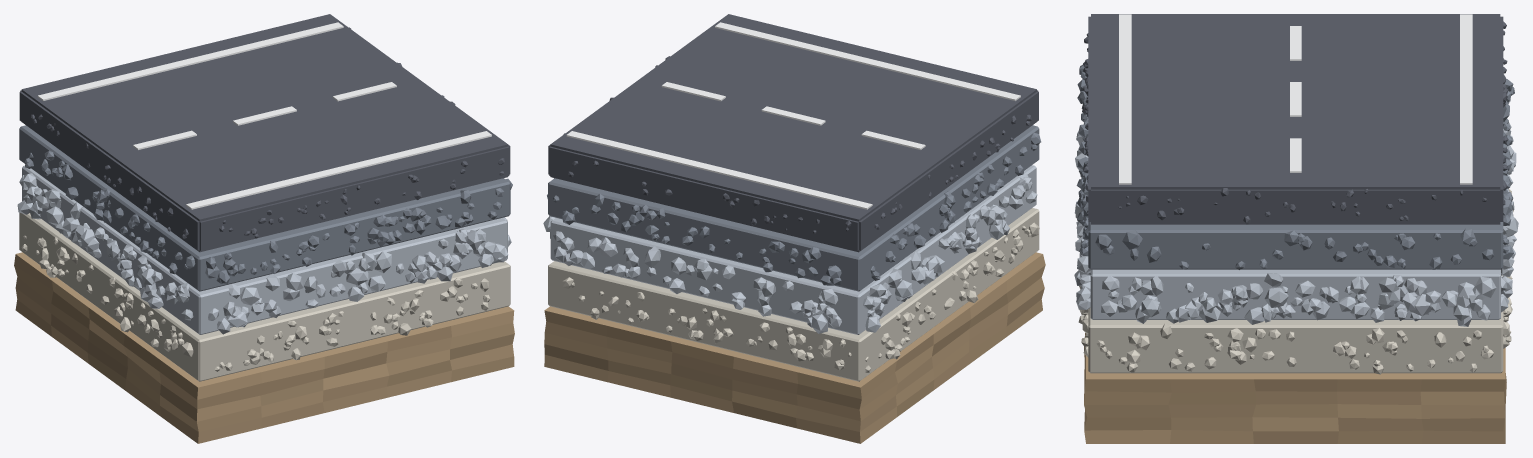
The model's file is pavement_strata.glb.
3 renders of one model, left to right at view 1: azimuth 30°, elevation 25°; view 2: azimuth 150°, elevation 25°; view 3: azimuth 270°, elevation 25°, orthographic. The views are drawn at different scales.
Visible parts, largest first — view 1: Stratum_01_Surface, Stratum_05_Subgrade, Stratum_04_Subbase, Stratum_03_Base, Stratum_02_Binder, Stratum_01_Markings; view 2: Stratum_01_Surface, Stratum_05_Subgrade, Stratum_04_Subbase, Stratum_03_Base, Stratum_02_Binder, Stratum_01_Markings; view 3: Stratum_01_Surface, Stratum_05_Subgrade, Stratum_03_Base, Stratum_04_Subbase, Stratum_02_Binder, Stratum_01_Markings.
Part boxes in pixels (x1,y1,x2,y2): Stratum_01_Surface: (19, 14, 510, 252); Stratum_05_Subgrade: (14, 252, 514, 443); Stratum_04_Subbase: (19, 212, 510, 381); Stratum_03_Base: (17, 165, 511, 334); Stratum_02_Binder: (19, 125, 512, 291); Stratum_01_Markings: (37, 22, 491, 209); Stratum_01_Surface: (548, 14, 1038, 252); Stratum_05_Subgrade: (544, 252, 1045, 443); Stratum_04_Subbase: (548, 208, 1039, 381); Stratum_03_Base: (543, 165, 1037, 334); Stratum_02_Binder: (547, 125, 1041, 291); Stratum_01_Markings: (566, 22, 1020, 209); Stratum_01_Surface: (1082, 14, 1508, 224); Stratum_05_Subgrade: (1084, 333, 1506, 443); Stratum_03_Base: (1074, 122, 1518, 326); Stratum_04_Subbase: (1078, 189, 1513, 374); Stratum_02_Binder: (1076, 64, 1514, 269); Stratum_01_Markings: (1119, 14, 1472, 184).
Size of the model in its own units: 3.85 by 2.46 by 3.86.
